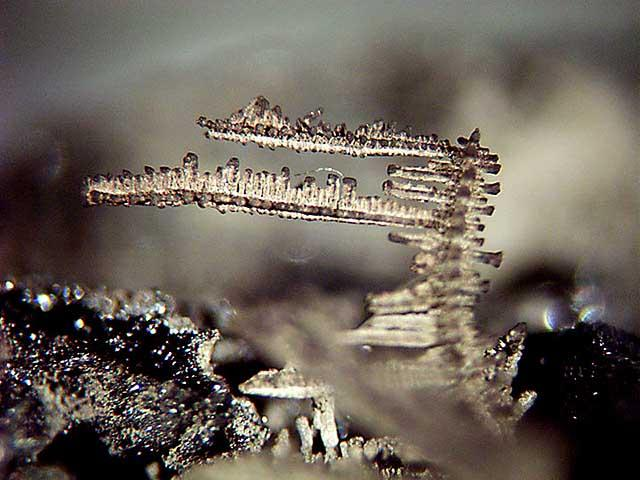silver: (84, 97, 536, 434), (241, 369, 397, 470)
